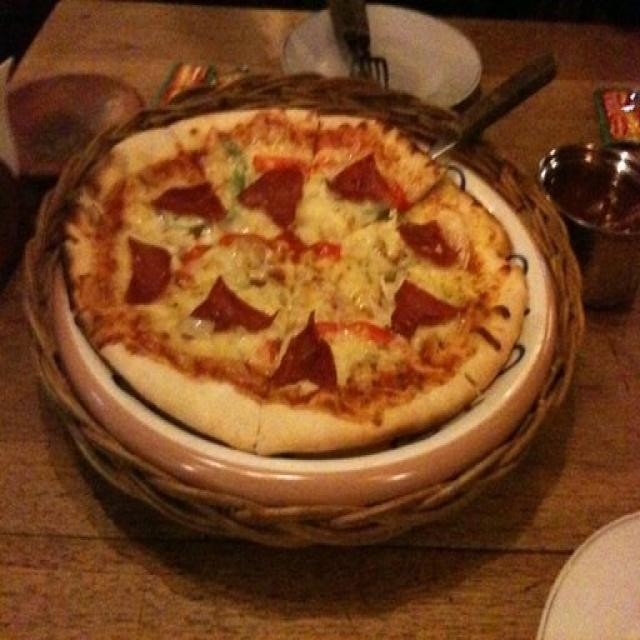Pepperoni: (193, 278, 278, 332), (275, 316, 337, 388), (238, 167, 302, 225), (391, 280, 458, 334), (124, 235, 172, 306), (327, 155, 391, 201), (400, 217, 458, 265), (157, 182, 230, 220)
Pizza: (62, 110, 521, 455)
